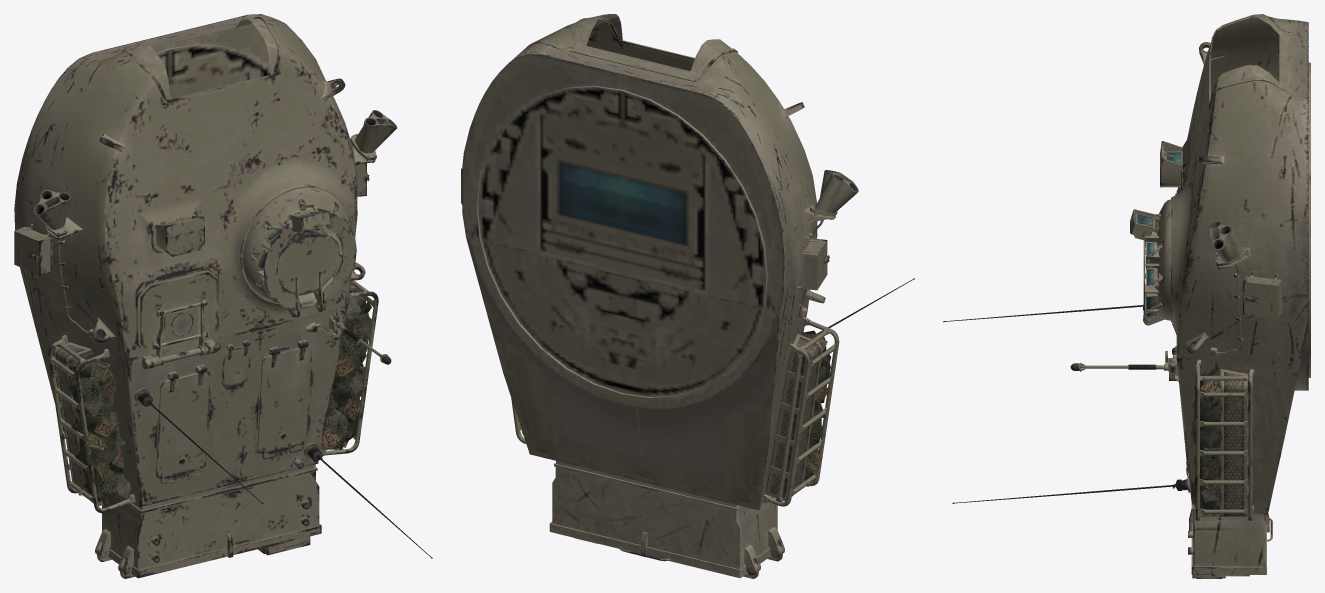
File: Turret_02.glb
The picture shows the model from 3 angles, left to right: view 1: azimuth 30°, elevation 25°; view 2: azimuth 150°, elevation 25°; view 3: azimuth 270°, elevation 25°; orthographic projection. The views are drawn at different scales.
Visible parts, largest first — view 1: set_0_group_0, set_0_group_1; view 2: set_0_group_0, set_0_group_1; view 3: set_0_group_0, set_0_group_1.
Boxes of the visible parts, x1,y1,x2,y2 form: set_0_group_0: (14, 14, 432, 578); set_0_group_1: (67, 287, 371, 507); set_0_group_0: (461, 14, 914, 578); set_0_group_1: (766, 330, 831, 491); set_0_group_0: (943, 14, 1310, 578); set_0_group_1: (1190, 369, 1221, 515).
Size of the model in its own units: 2.71 by 3.66 by 2.44.
2 materials, 2 textured.
